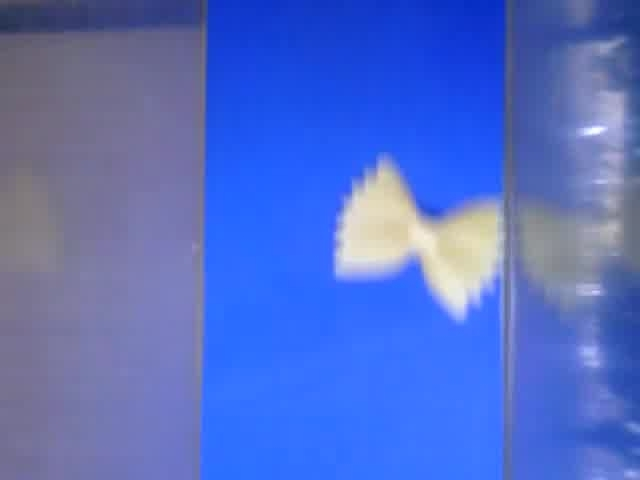farfalle: (334, 156, 508, 322)
